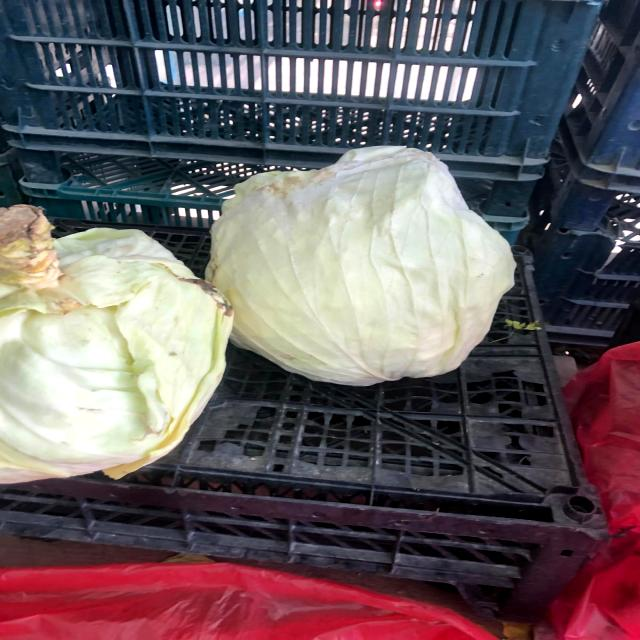cabbage: (195, 123, 532, 402), (0, 191, 244, 493)
